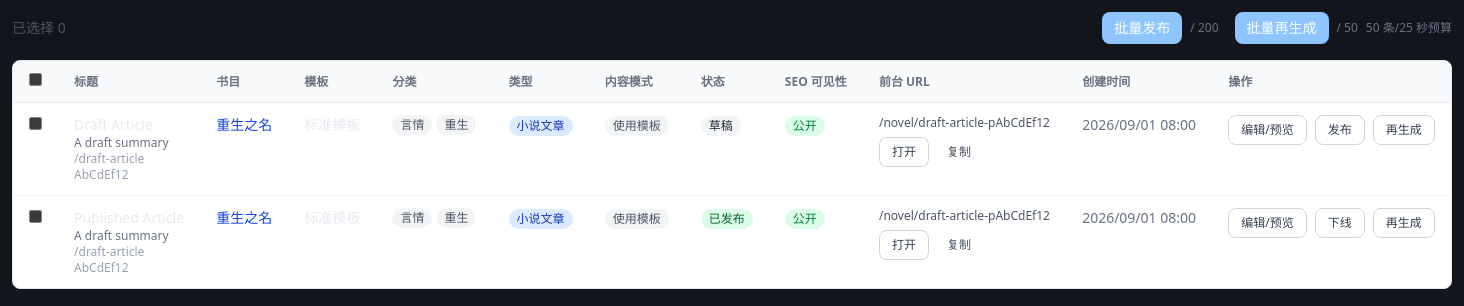
it: ArticleList · 列表与批量 › 表头「选择当前页」全选后已选择 2，再点一次归零（C-17）
The image size is (1464, 306).
Click the checkbox named "选择当前页": (36, 80) [29,73,42,86]
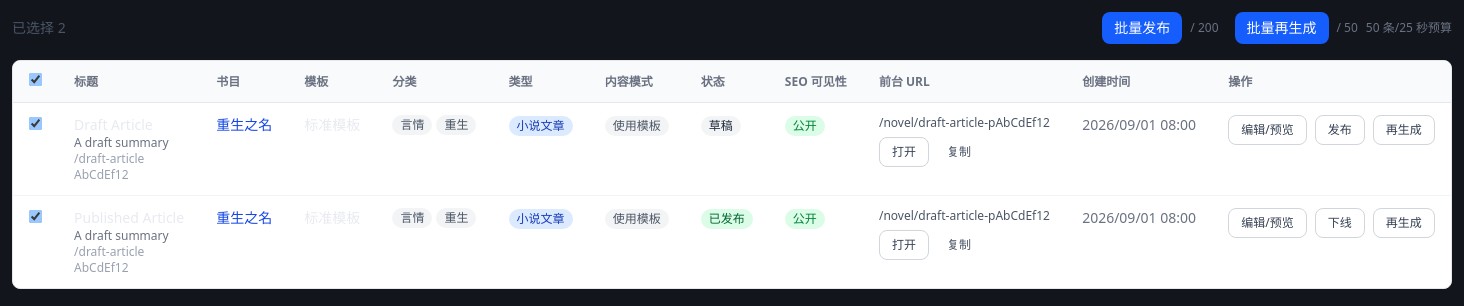
Now the text "已选择 2" is shown, box [12,18,66,38]
Click the checkbox named "选择当前页": (36, 80) [29,73,42,86]
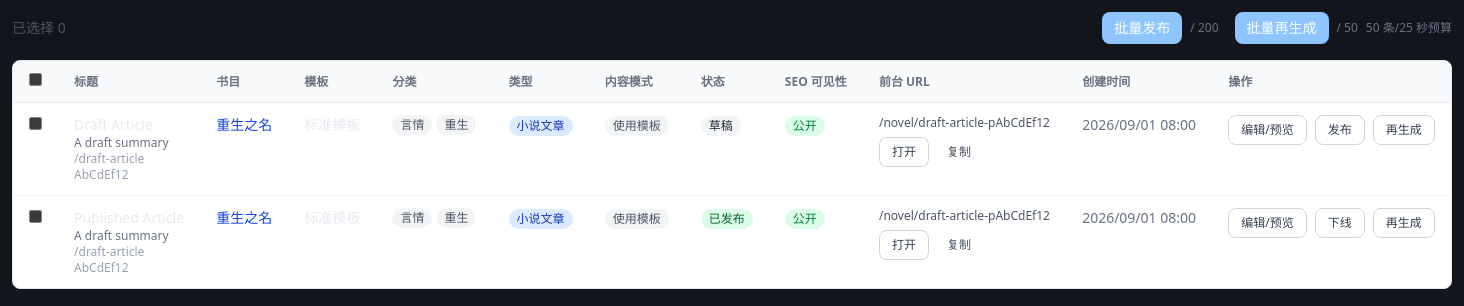
Now the text "已选择 0" is shown, box [12,18,66,38]
